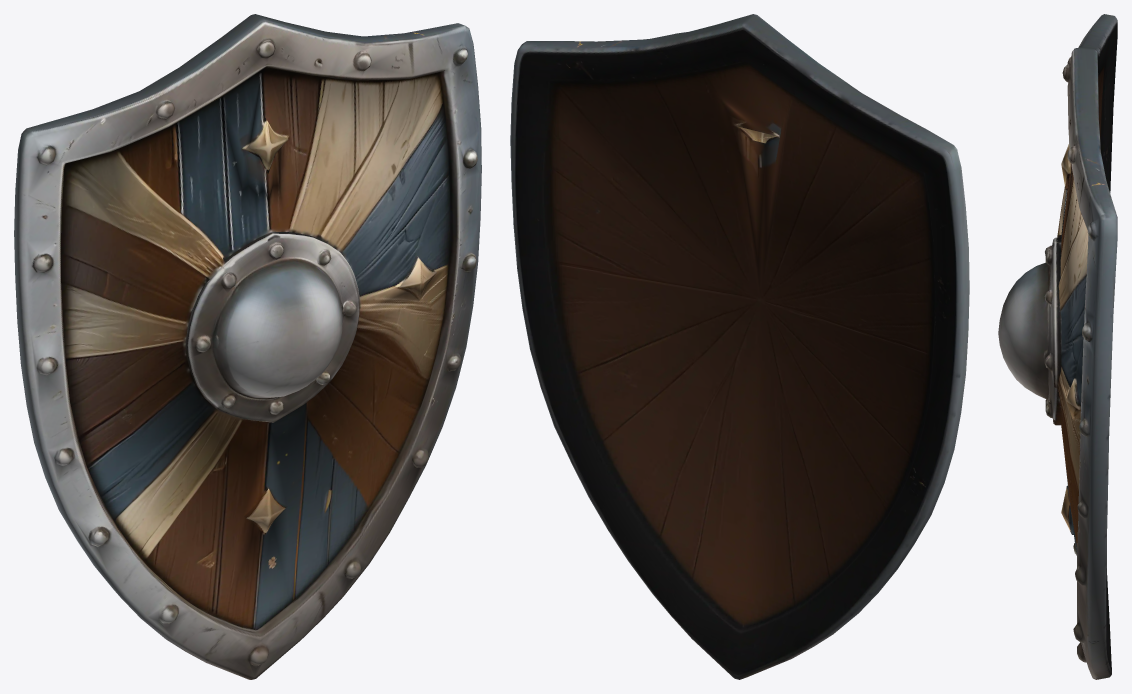
File: shield_primitive_realistic_style_13d12365_v4.glb
3 renders of one model, left to right at view 1: azimuth 30°, elevation 25°; view 2: azimuth 150°, elevation 25°; view 3: azimuth 270°, elevation 25°, orthographic. The views are drawn at different scales.
Parts seen in each view (by area): view 1: texture_pbr_20250901; view 2: texture_pbr_20250901; view 3: texture_pbr_20250901.
Boxes of the visible parts, x1,y1,x2,y2 form: texture_pbr_20250901: (14, 14, 481, 679); texture_pbr_20250901: (510, 14, 969, 679); texture_pbr_20250901: (998, 14, 1117, 679).
Size of the model in its own units: 1.38 by 1.9 by 0.3262.
Materials: 1 (1 with a texture image).
